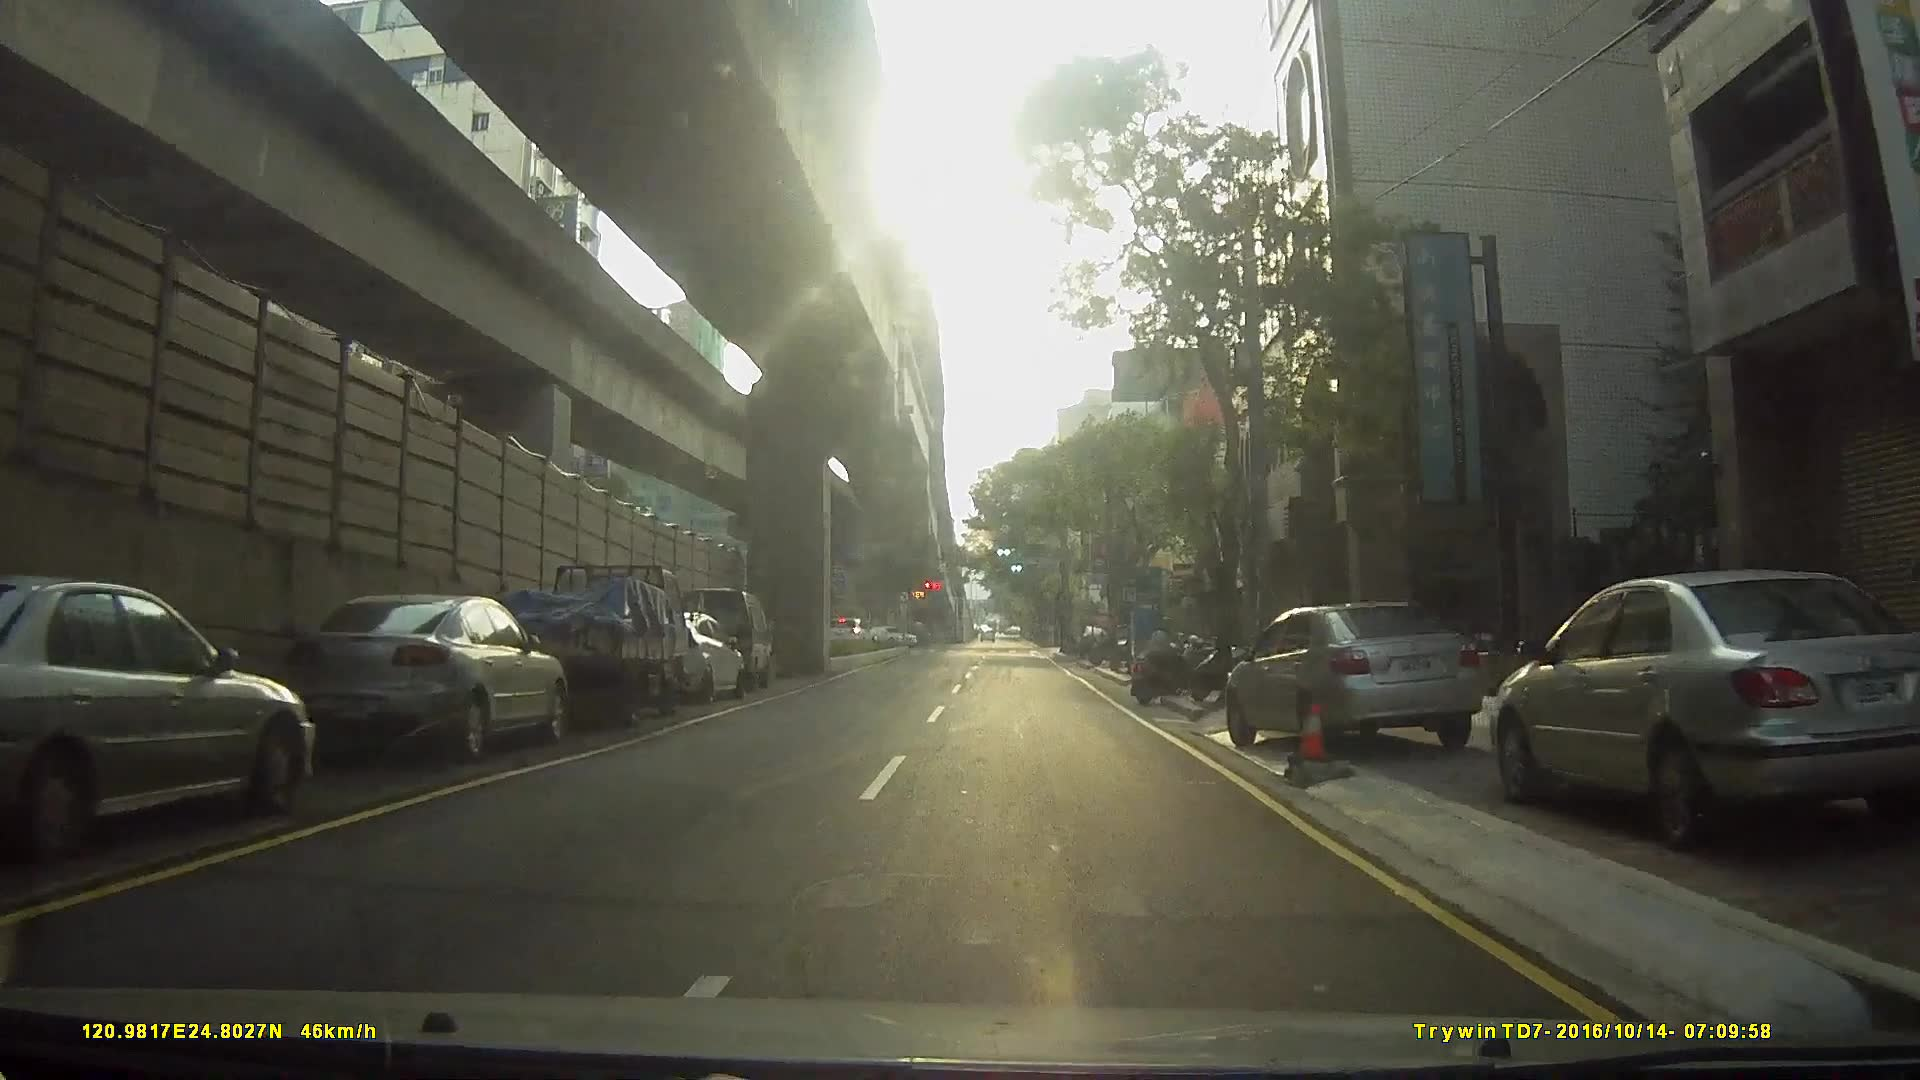rider: (1132, 621, 1211, 708)
vehicle: (1472, 559, 1911, 878), (1, 569, 310, 852), (266, 591, 574, 766), (1229, 597, 1502, 753), (484, 561, 713, 728), (623, 607, 746, 704), (821, 614, 875, 650)
